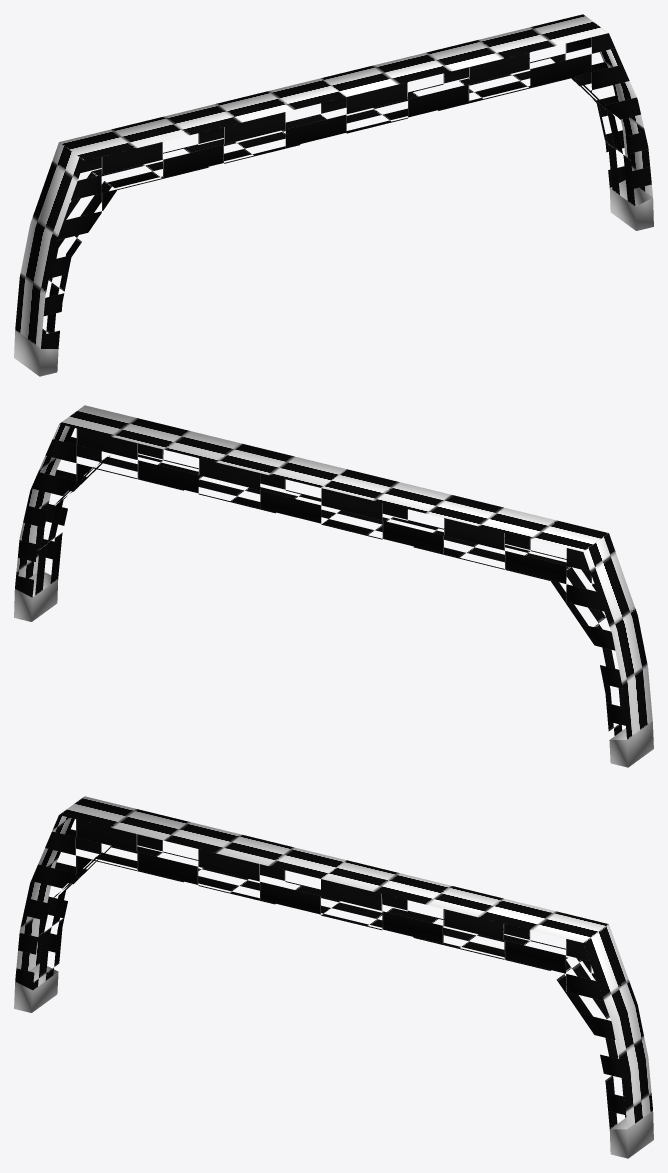
File: bridge.fbx
3 views of the same model, one above another, from view 1: azimuth 30°, elevation 25°; view 2: azimuth 150°, elevation 25°; view 3: azimuth 330°, elevation 25° (orthographic).
Visible parts, largest first — view 1: Plane.005; view 2: Plane.005; view 3: Plane.005.
Part boxes in pixels (box(x1,y1,x2,y2)): Plane.005: box(14, 14, 653, 376); Plane.005: box(14, 405, 653, 767); Plane.005: box(14, 796, 653, 1158).
Size of the model in its own units: 2760 by 879 by 200.
